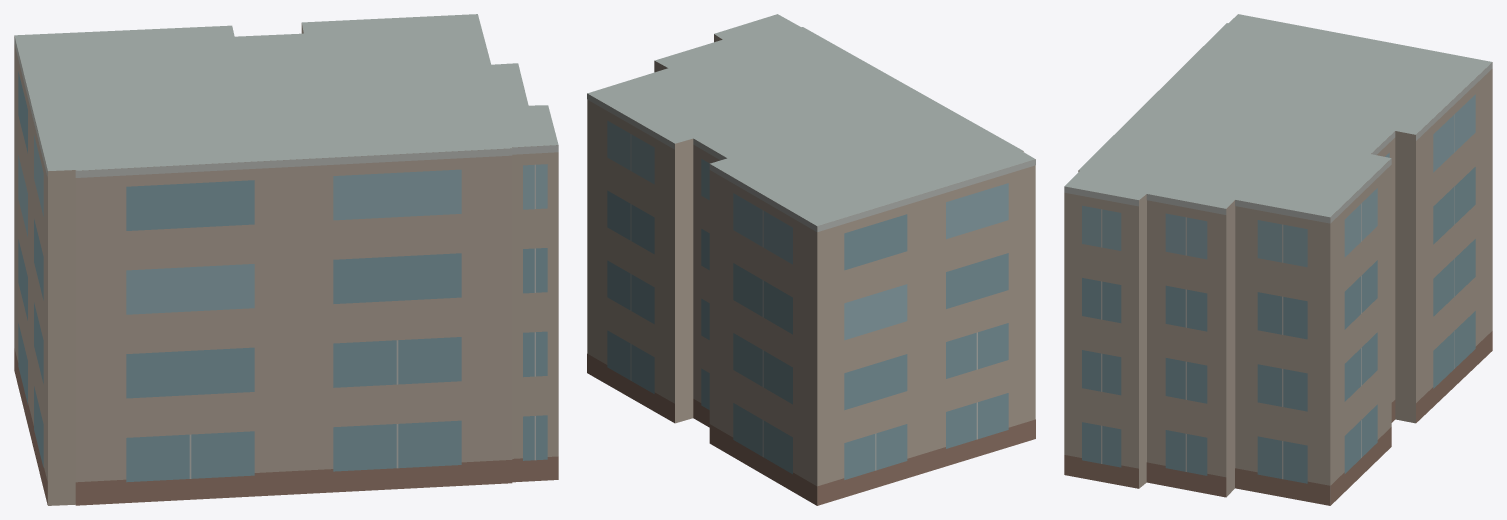
File: survey-upis-32951331.glb
3 renders of one model, left to right at view 1: azimuth 30°, elevation 25°; view 2: azimuth 150°, elevation 25°; view 3: azimuth 270°, elevation 25°, orthographic. The views are drawn at different scales.
Visible parts, largest first — view 1: survey-upis-32951331.tmp; view 2: survey-upis-32951331.tmp; view 3: survey-upis-32951331.tmp.
Part boxes in pixels (left/top/right/bottom): survey-upis-32951331.tmp: left=14, top=14, right=558, bottom=505; survey-upis-32951331.tmp: left=587, top=14, right=1035, bottom=505; survey-upis-32951331.tmp: left=1064, top=14, right=1492, bottom=505.
Size of the model in its own units: 16.93 by 11.2 by 15.08.
